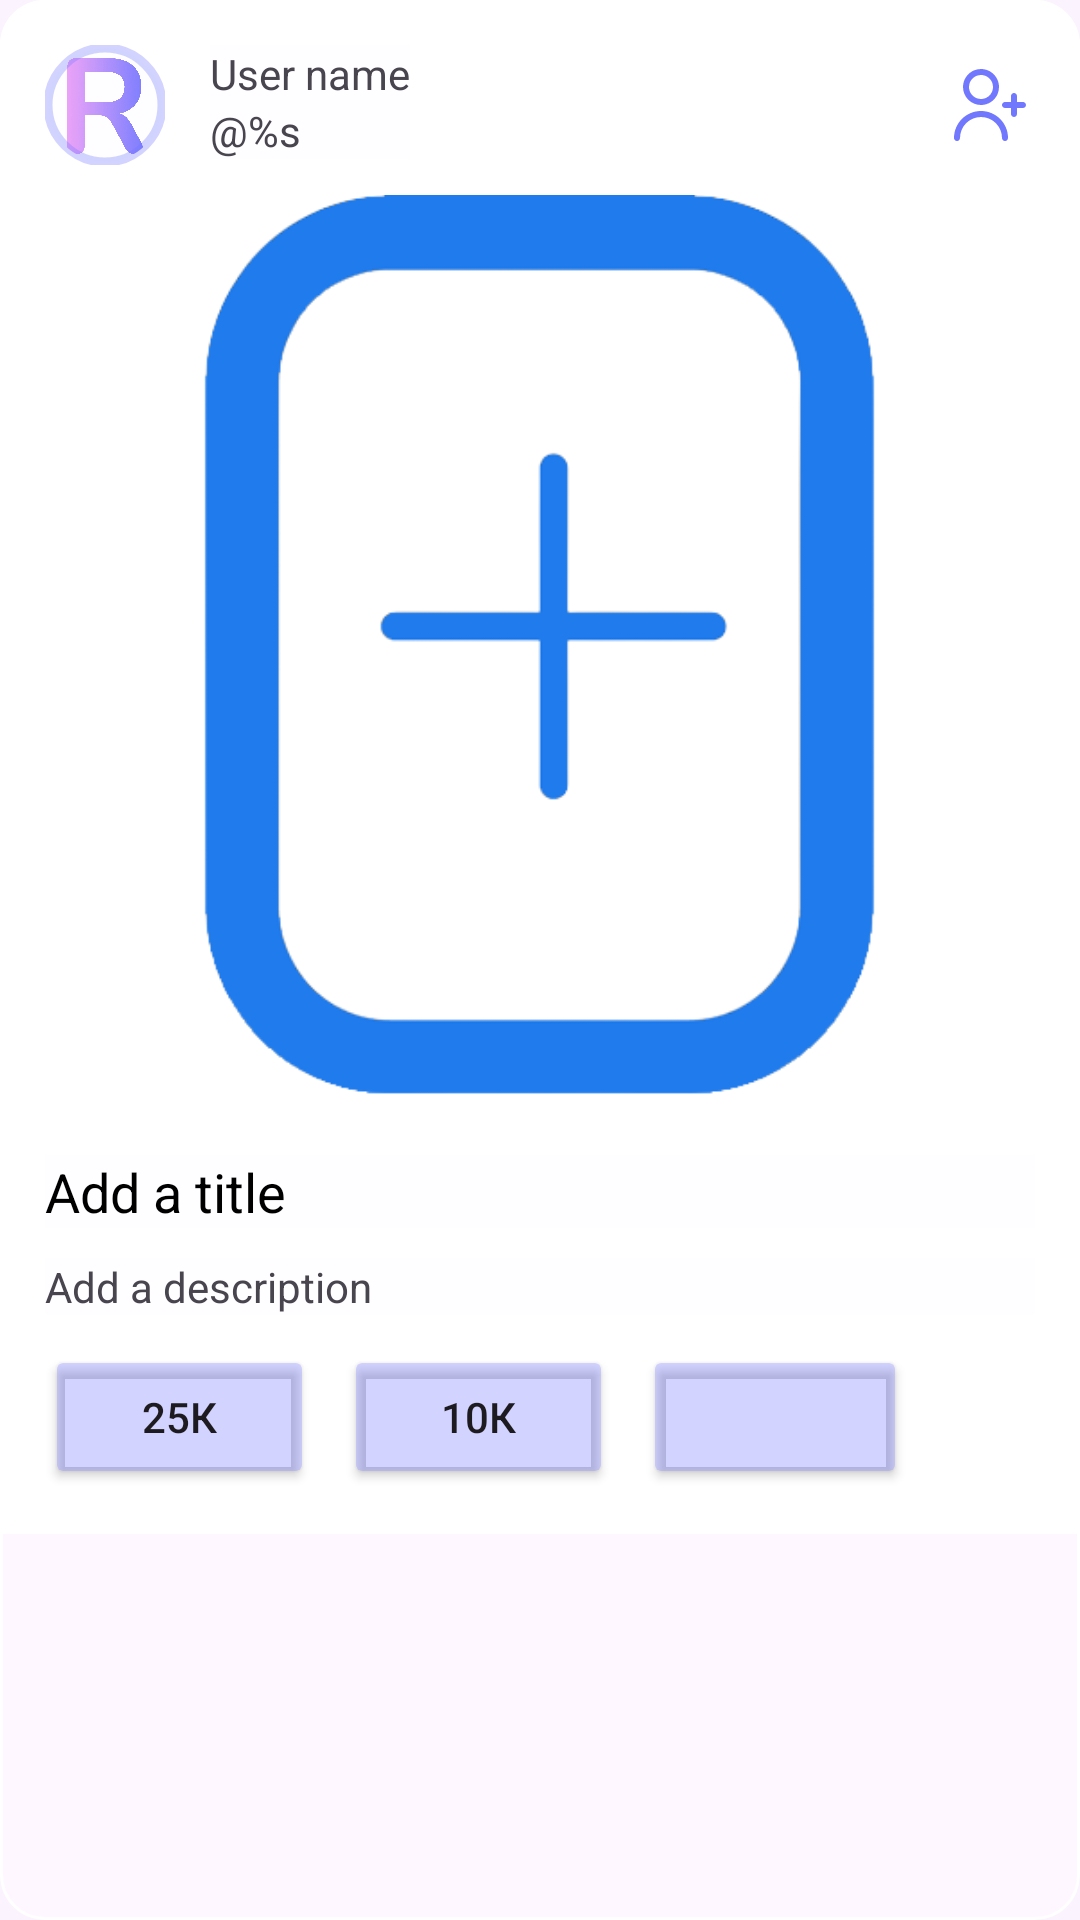

Icons on this 1080px×1920px Android screen, each with its box as region(x1, y1, x2, y2):
Subscribe button: region(954, 69, 1026, 141)
